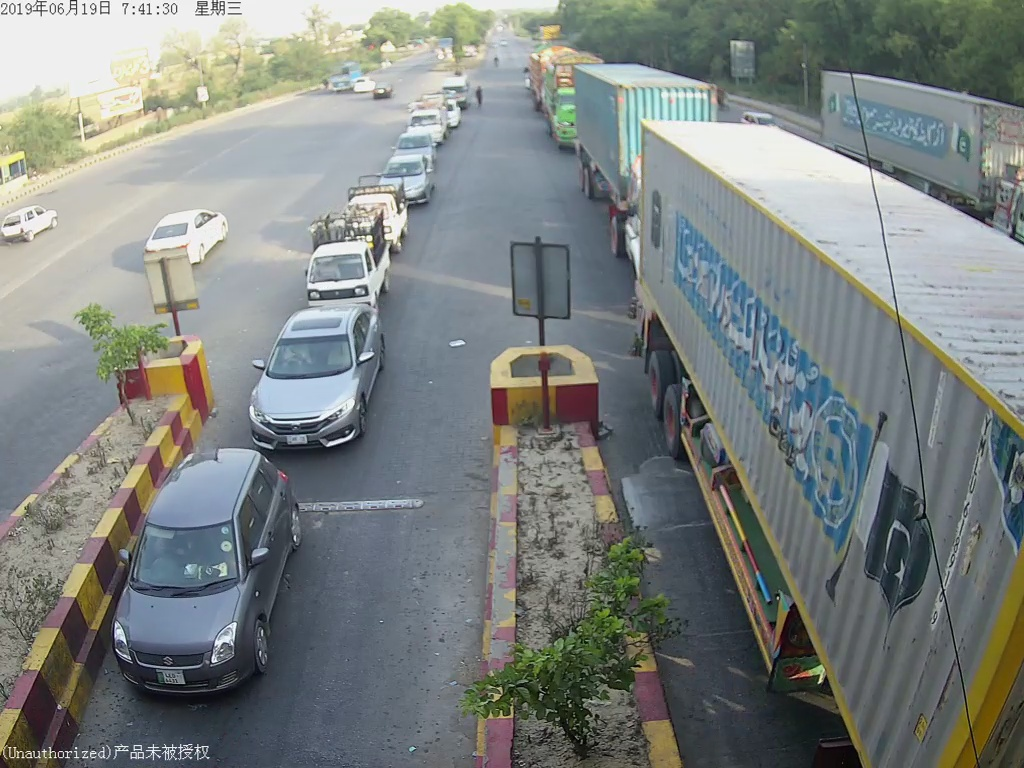Cat-1: (123, 449, 333, 700), (248, 307, 397, 459), (307, 219, 380, 297)
